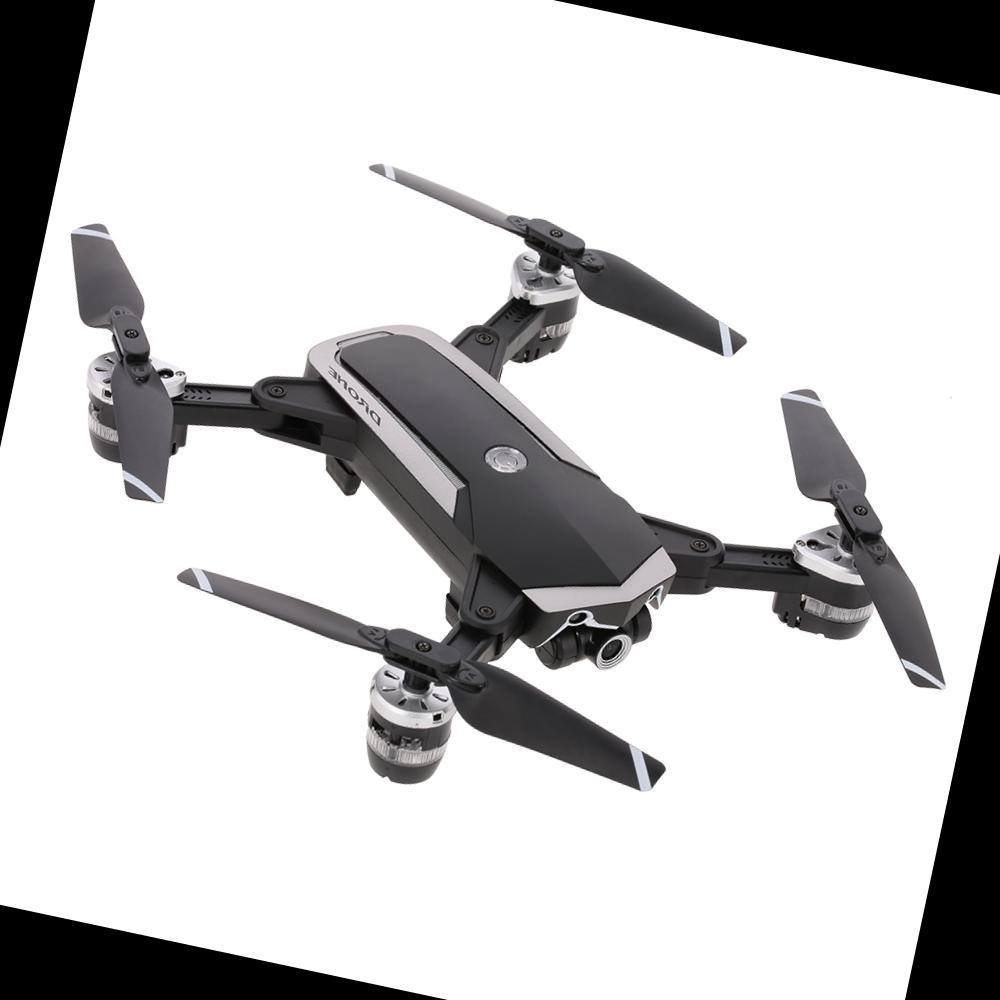drone: (0, 88, 992, 900)
